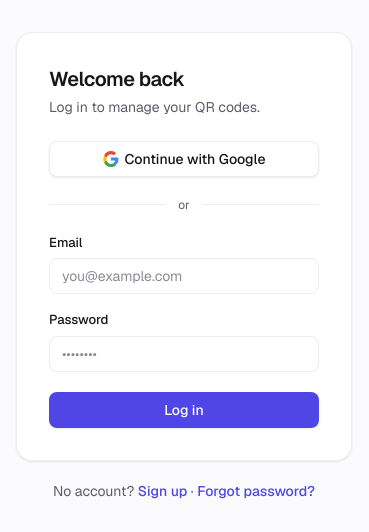
Test case: AuthForm (Google) › surfaces an OAuth error
Click the button "Continue with Google".
click(184, 158)  # box [49,140,319,176]
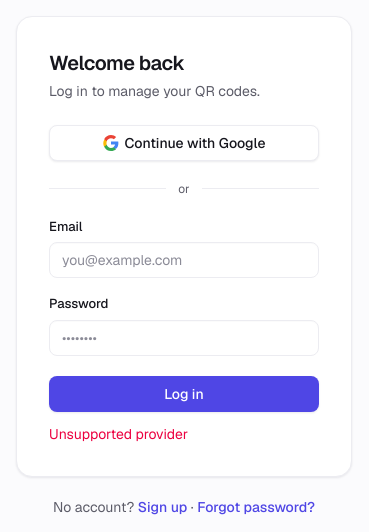
Check: the text "Unsupported provider" is shown, box [49,424,188,442]
